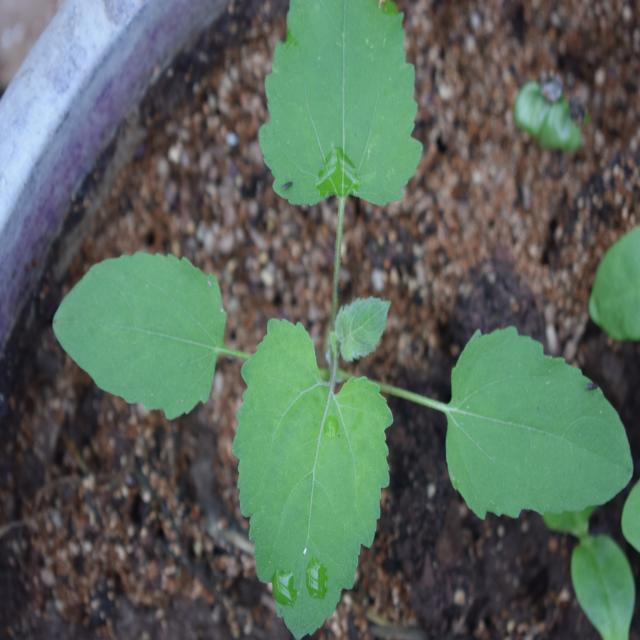cocklebur: (98, 0, 628, 595)
